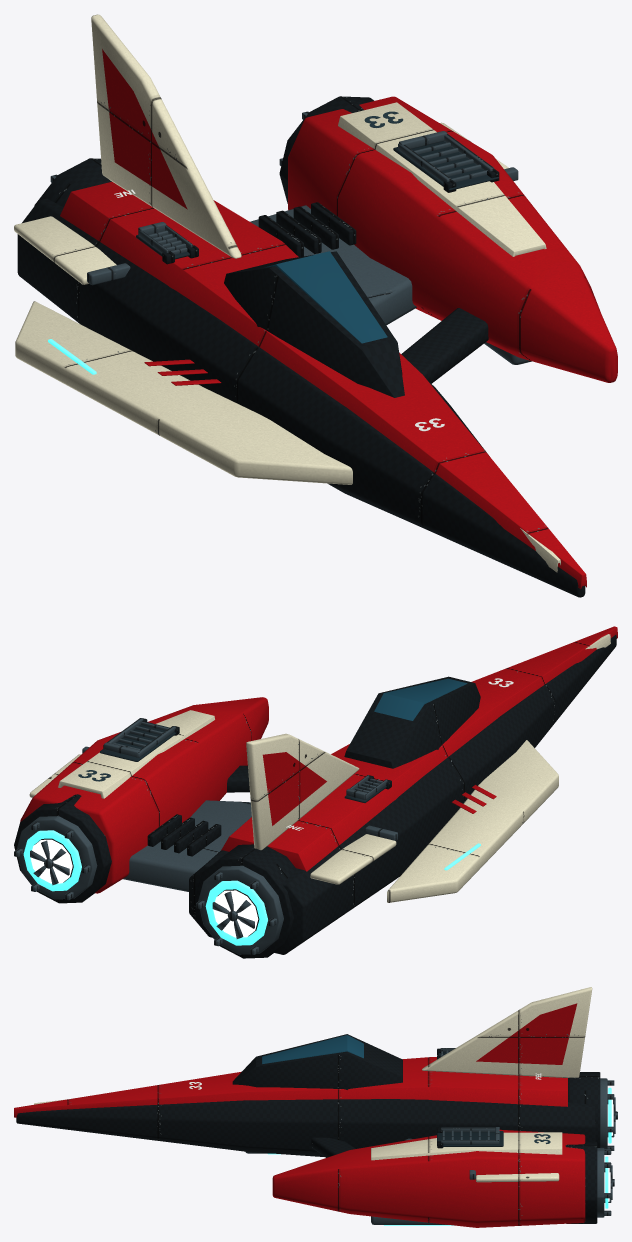
File: talon-player.glb
The picture shows the model from 3 angles, top to bottom: view 1: azimuth 30°, elevation 25°; view 2: azimuth 150°, elevation 25°; view 3: azimuth 270°, elevation 25°; orthographic projection. The views are drawn at different scales.
Visible parts, largest first — view 1: Surface Crimson enamel, Surface Carbon composite, Surface Porcelain ivory, Surface Brushed titanium, Surface Polarised canopy, Mechanism airbrake_negative_x.001 Porcelain ivory, Mechanism cooling_positive_x.001 Brushed titanium, Surface Intake shadow, Mechanism cooling_negative_x.001 Brushed titanium; view 2: Surface Carbon composite, Surface Crimson enamel, Surface Porcelain ivory, Surface Brushed titanium, Surface Ion cyan, Surface Reactor white, Mechanism airbrake_negative_x.001 Porcelain ivory, Surface Polarised canopy, Mechanism cooling_positive_x.001 Brushed titanium, Surface Intake shadow, Mechanism turbine_negative_x.001 Brushed titanium, Mechanism turbine_positive_x.001 Brushed titanium (+1 smaller); view 3: Surface Crimson enamel, Surface Carbon composite, Surface Porcelain ivory, Surface Brushed titanium, Surface Polarised canopy, Mechanism cooling_positive_x.001 Brushed titanium, Mechanism airbrake_positive_x.001 Porcelain ivory, Surface Intake shadow, Surface Ion cyan.
Boxes of the visible parts, x1=… form: Surface Crimson enamel: x1=60, y1=49, x2=617, y2=588; Surface Carbon composite: x1=17, y1=96, x2=585, y2=597; Surface Porcelain ivory: x1=15, y1=14, x2=560, y2=572; Surface Brushed titanium: x1=50, y1=111, x2=531, y2=364; Surface Polarised canopy: x1=265, y1=251, x2=387, y2=343; Mechanism airbrake_negative_x.001 Porcelain ivory: x1=14, y1=216, x2=116, y2=284; Mechanism cooling_positive_x.001 Brushed titanium: x1=398, y1=131, x2=494, y2=182; Surface Intake shadow: x1=136, y1=141, x2=498, y2=259; Mechanism cooling_negative_x.001 Brushed titanium: x1=138, y1=222, x2=192, y2=254; Surface Carbon composite: x1=14, y1=635, x2=616, y2=958; Surface Crimson enamel: x1=20, y1=626, x2=617, y2=893; Surface Porcelain ivory: x1=58, y1=634, x2=610, y2=902; Surface Brushed titanium: x1=14, y1=746, x2=397, y2=954; Surface Ion cyan: x1=23, y1=830, x2=480, y2=945; Surface Reactor white: x1=30, y1=839, x2=258, y2=937; Mechanism airbrake_negative_x.001 Porcelain ivory: x1=310, y1=834, x2=396, y2=884; Surface Polarised canopy: x1=374, y1=678, x2=467, y2=720; Mechanism cooling_positive_x.001 Brushed titanium: x1=103, y1=718, x2=175, y2=757; Surface Intake shadow: x1=99, y1=722, x2=386, y2=802; Mechanism turbine_negative_x.001 Brushed titanium: x1=212, y1=891, x2=254, y2=938; Mechanism turbine_positive_x.001 Brushed titanium: x1=30, y1=840, x2=69, y2=885; Surface Crimson enamel: x1=14, y1=1003, x2=585, y2=1227; Surface Carbon composite: x1=16, y1=1034, x2=600, y2=1223; Surface Porcelain ivory: x1=34, y1=987, x2=592, y2=1160; Surface Brushed titanium: x1=245, y1=1078, x2=614, y2=1224; Surface Polarised canopy: x1=262, y1=1035, x2=363, y2=1064; Mechanism cooling_positive_x.001 Brushed titanium: x1=441, y1=1127, x2=499, y2=1144; Mechanism airbrake_positive_x.001 Porcelain ivory: x1=476, y1=1173, x2=559, y2=1182; Surface Intake shadow: x1=437, y1=1052, x2=503, y2=1146; Surface Ion cyan: x1=268, y1=1087, x2=611, y2=1225.
Size of the model in its own units: 4.33 by 2.32 by 7.61.
Materials: 10 (4 with a texture image).
